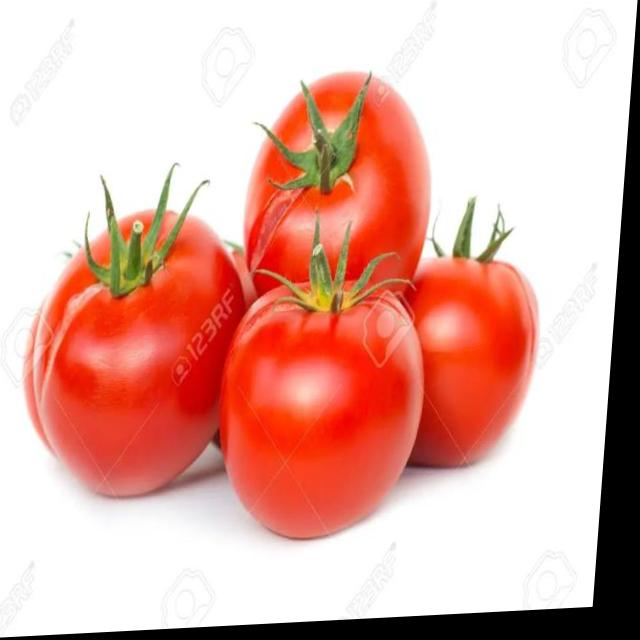kirmizi: (31, 70, 581, 557)
